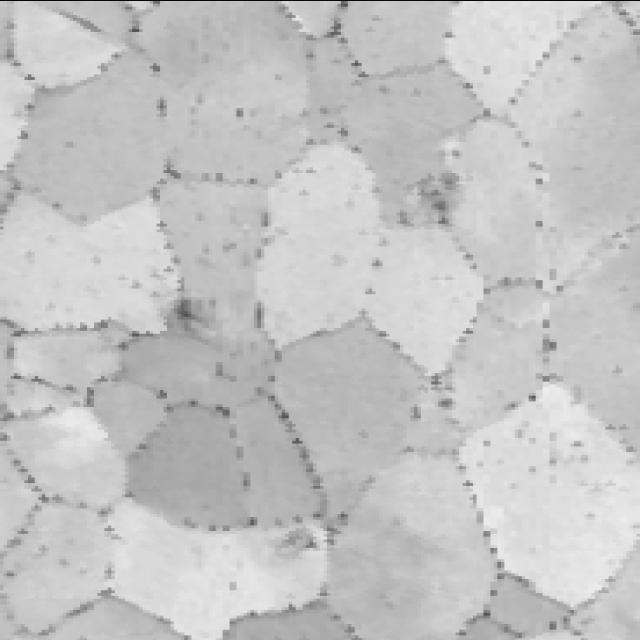good_void: (166, 295, 220, 344)
